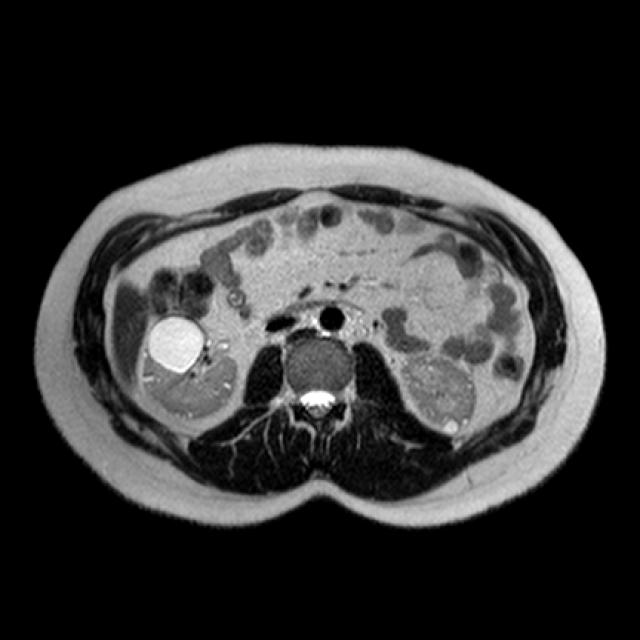sag: (144, 313, 239, 420)
sol: (402, 354, 476, 433)
